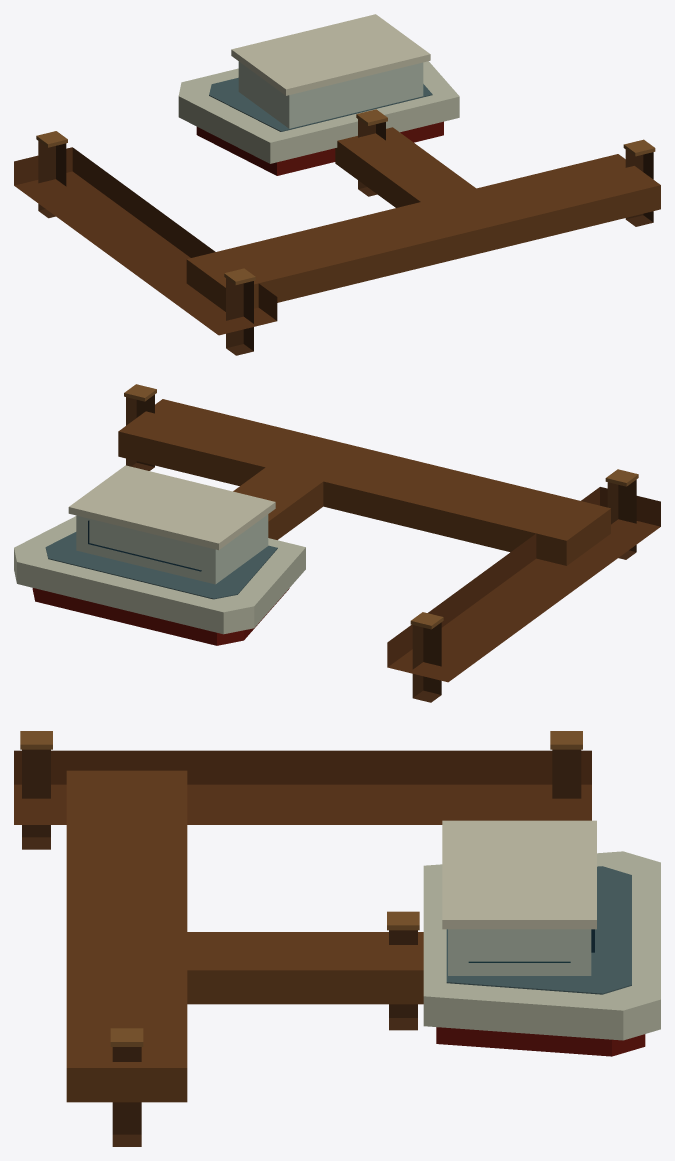
File: SM_Dock.fbx
3 renders of one model, top to bottom at view 1: azimuth 30°, elevation 25°; view 2: azimuth 150°, elevation 25°; view 3: azimuth 270°, elevation 25°, orthographic. The views are drawn at different scales.
Visible parts, largest first — view 1: SM_Dock • FBX; view 2: SM_Dock • FBX; view 3: SM_Dock • FBX.
Part boxes in pixels (bbox=[...]): SM_Dock • FBX: bbox=[14, 14, 660, 355]; SM_Dock • FBX: bbox=[14, 384, 660, 702]; SM_Dock • FBX: bbox=[14, 731, 660, 1146].
Bounding box in the file's own units: 3055 × 2575 × 675.
